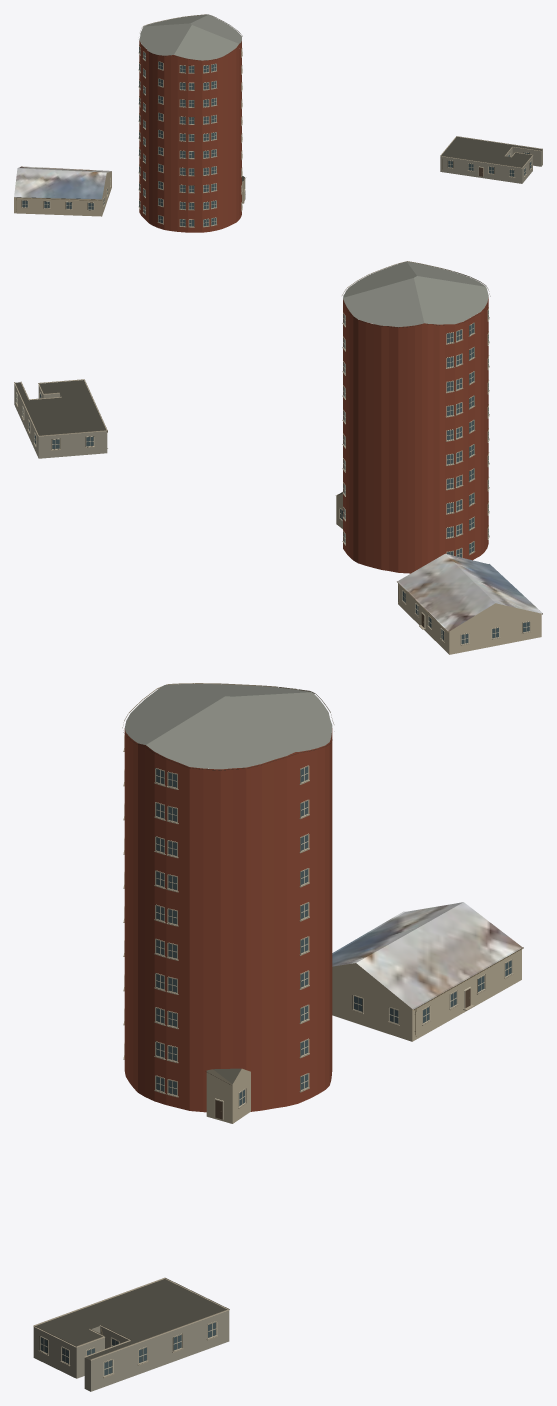
3 views of the same model, one above another, from view 1: azimuth 30°, elevation 25°; view 2: azimuth 150°, elevation 25°; view 3: azimuth 270°, elevation 25° (orthographic). The views are drawn at different scales.
Visible parts, largest first — view 1: -5_3_1466351079_114, -5_3_1466351080_115, -5_3_-10076052115_118; view 2: -5_3_1466351079_114, -5_3_1466351080_115, -5_3_-10076052115_118; view 3: -5_3_1466351079_114, -5_3_1466351080_115, -5_3_-10076052115_118.
Boxes of the visible parts, x1,y1,x2,y2 form: -5_3_1466351079_114: (17, 14, 542, 232); -5_3_1466351080_115: (14, 157, 483, 216); -5_3_-10076052115_118: (440, 147, 542, 183); -5_3_1466351079_114: (14, 261, 530, 645); -5_3_1466351080_115: (107, 430, 542, 654); -5_3_-10076052115_118: (14, 384, 107, 458); -5_3_1466351079_114: (33, 683, 523, 1377); -5_3_1466351080_115: (101, 902, 523, 1334); -5_3_-10076052115_118: (33, 1310, 229, 1391).
Size of the model in its own units: 118 by 48.22 by 55.54.
Materials: 13 (1 with a texture image).
